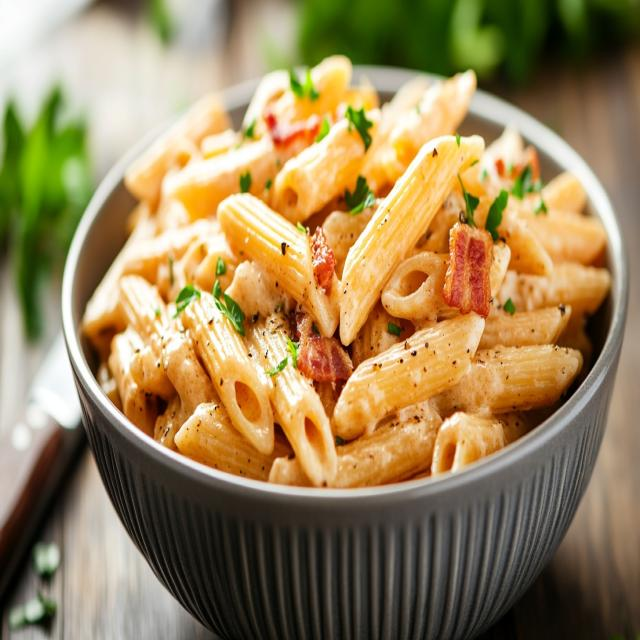pasta: (82, 56, 613, 487)
